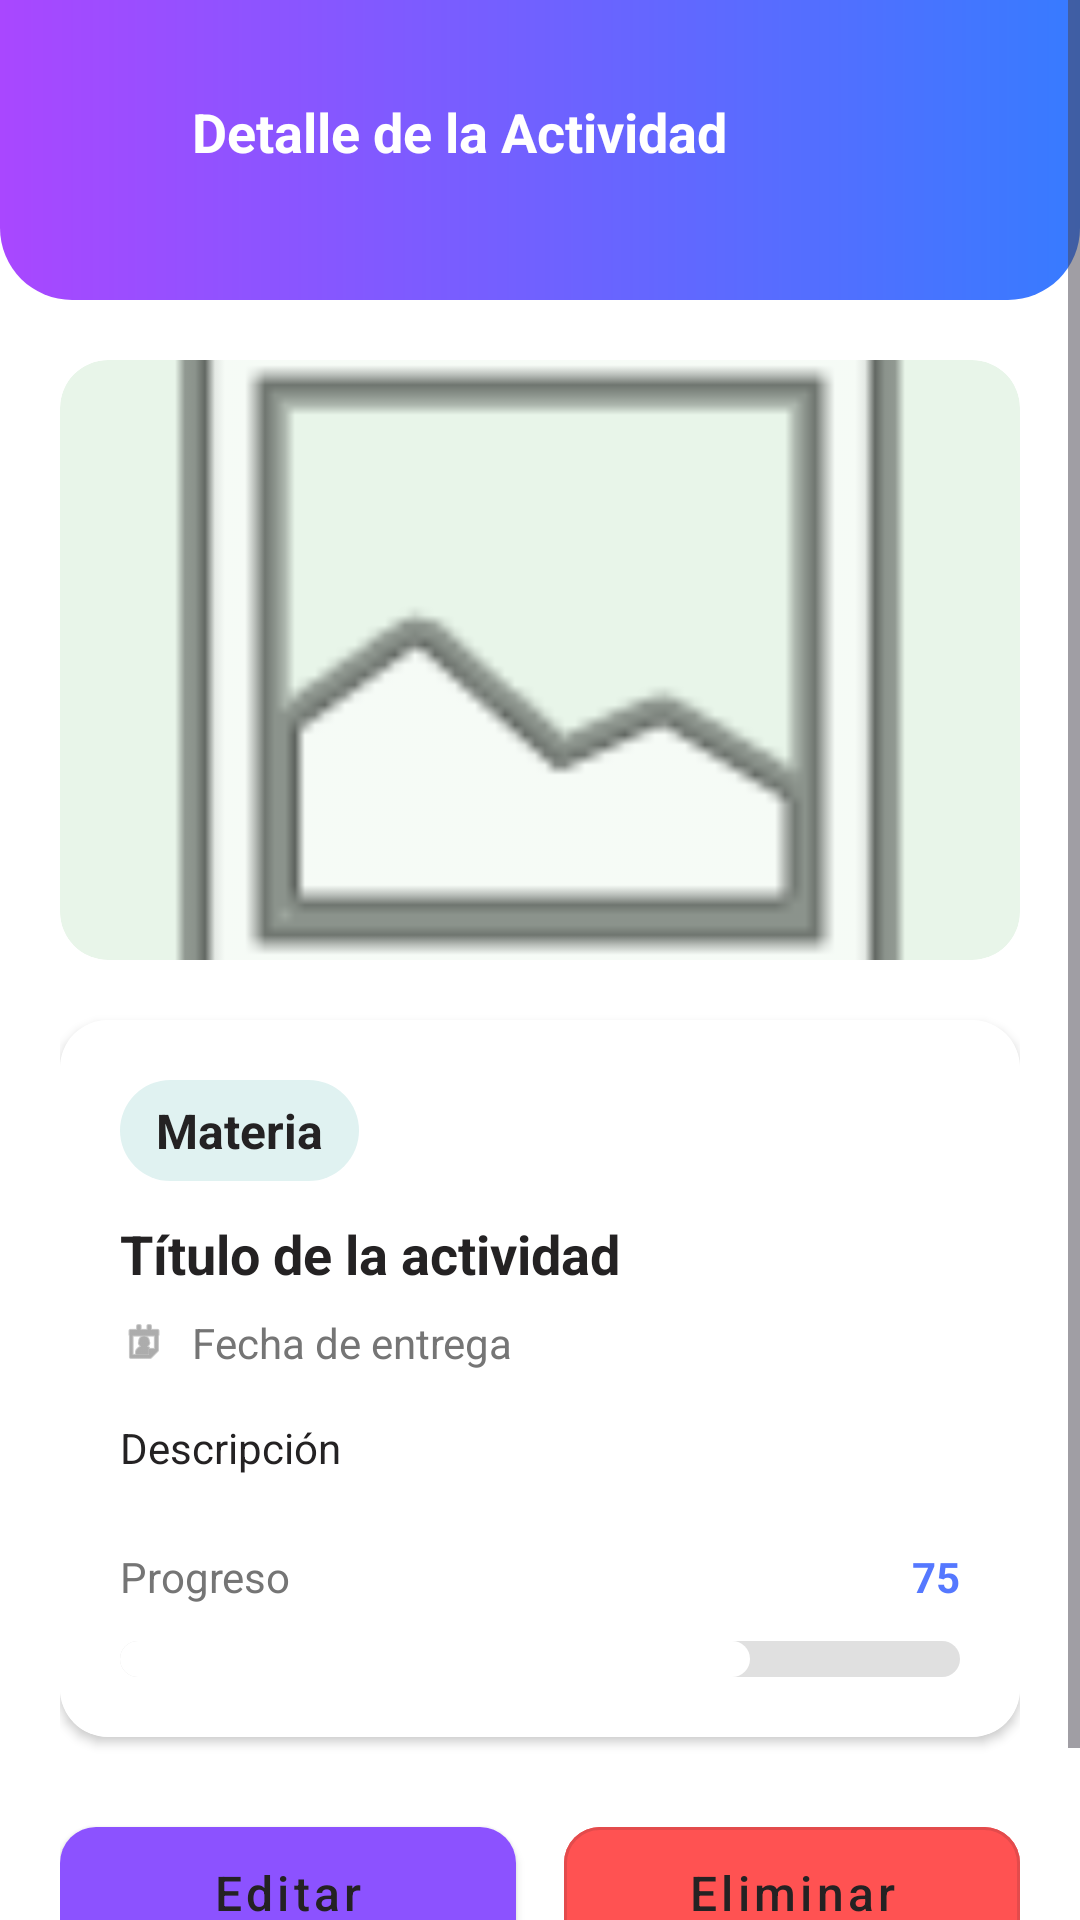

Locate icon controls on the screen. Image size 1080px x 1920px, boxes as (x1, y1, x2, y2).
calendar: (128, 1324, 160, 1359)
